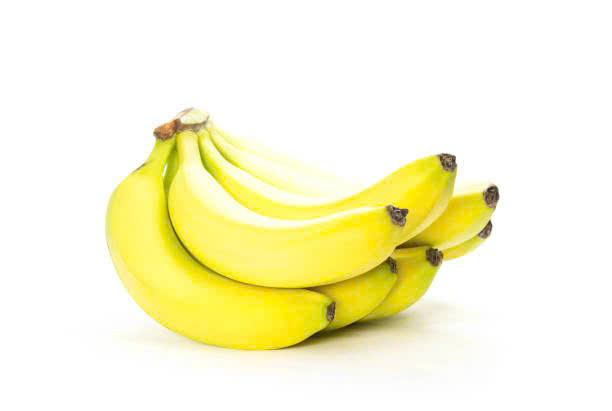banana: (100, 102, 525, 362)
